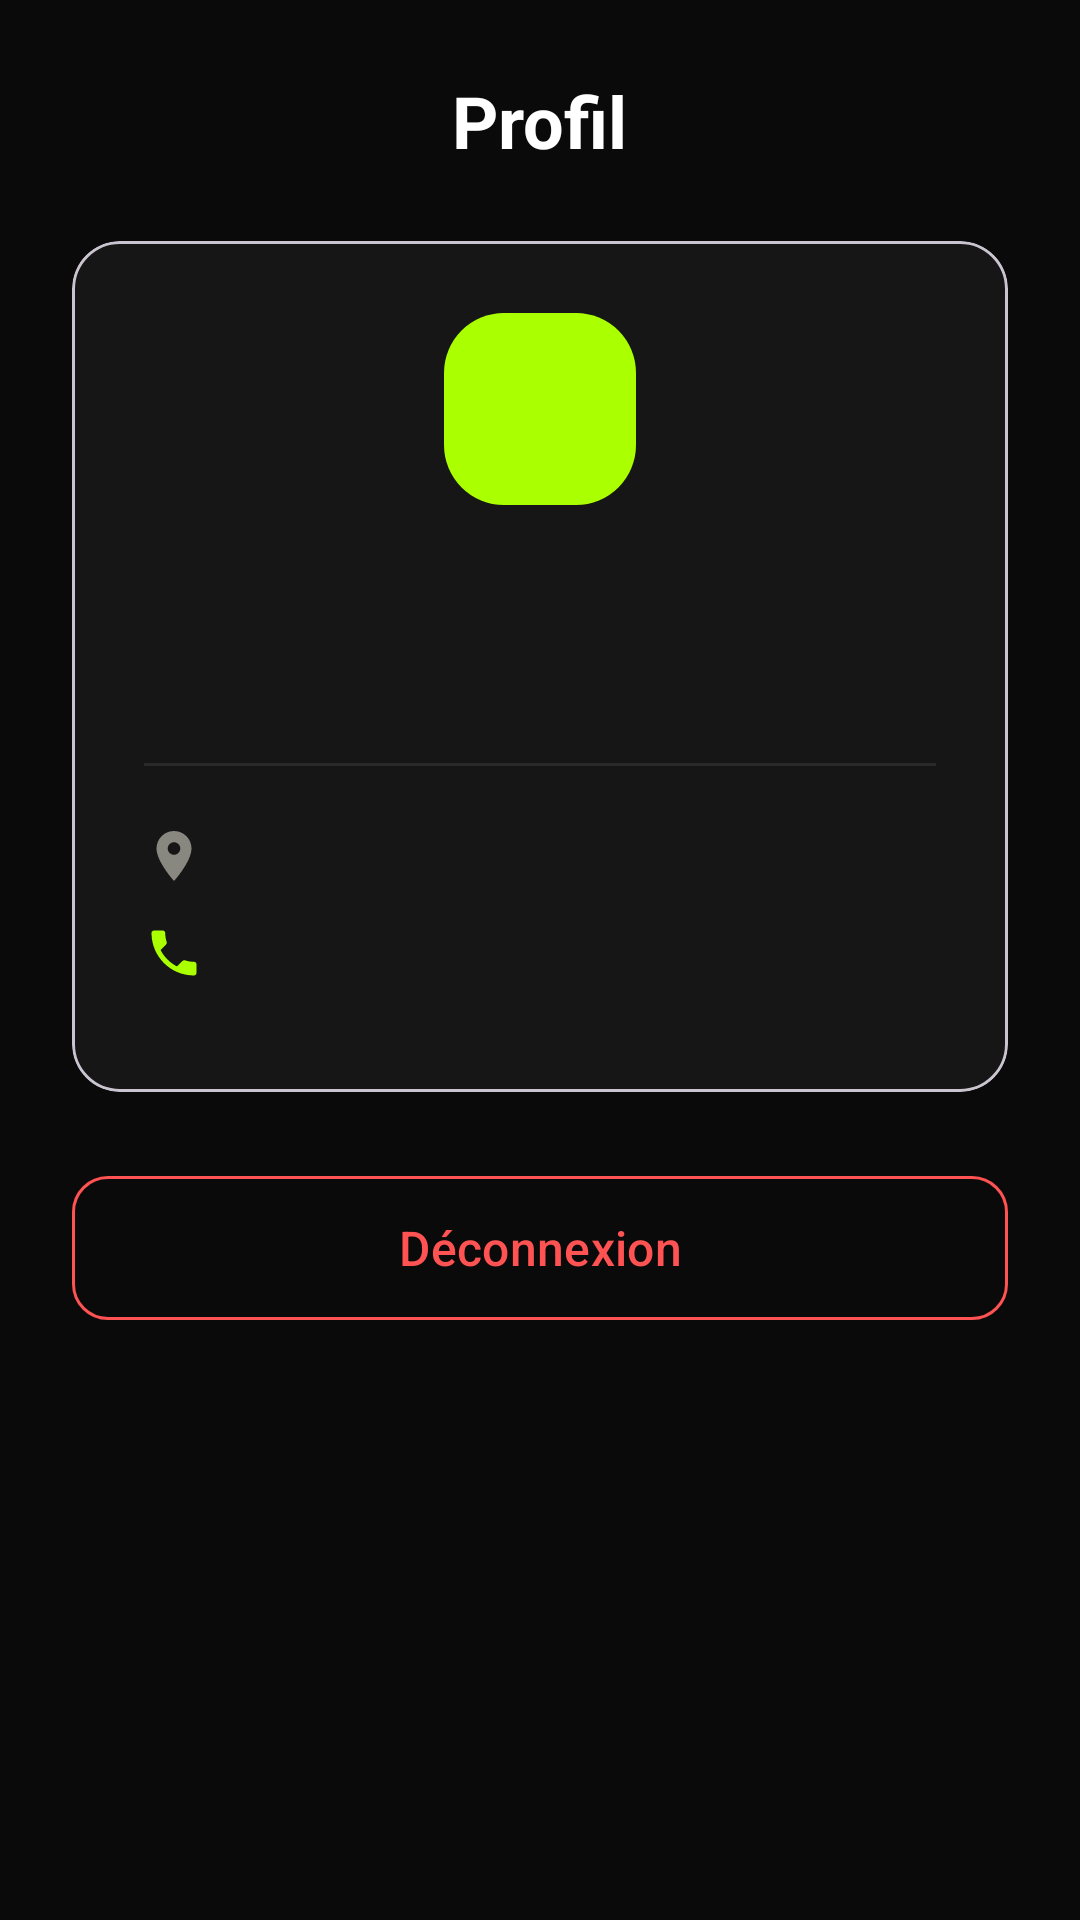

Screen size 1080px x 1920px. Icon name, then its box in pixels as BBox(x1, y1, x2, y2):
call: BBox(151, 930, 197, 976)
location: BBox(156, 831, 192, 881)
